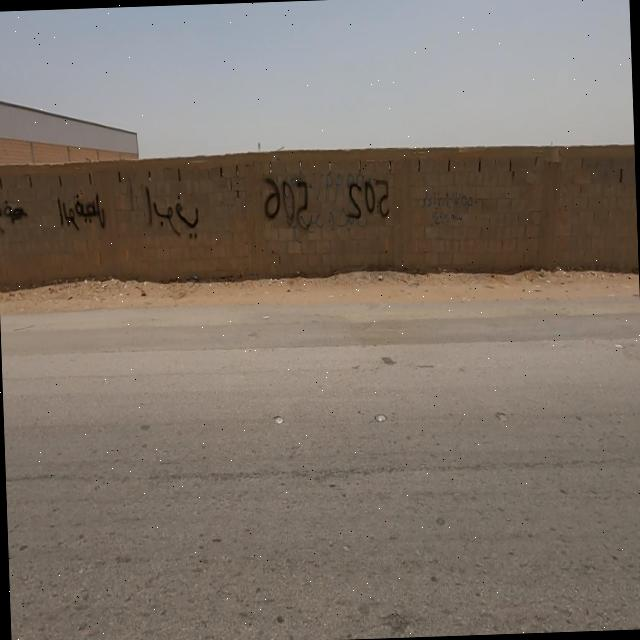Graffiti: (264, 168, 393, 241), (145, 185, 202, 240), (422, 187, 480, 227), (55, 193, 108, 234), (1, 198, 27, 233)
